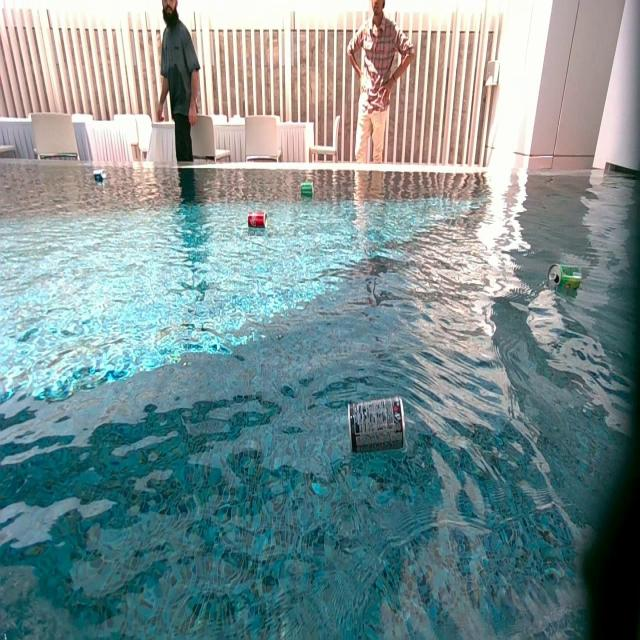Cans: (348, 396, 406, 457), (549, 264, 582, 293), (248, 212, 265, 228), (300, 181, 313, 195), (94, 171, 107, 184)
